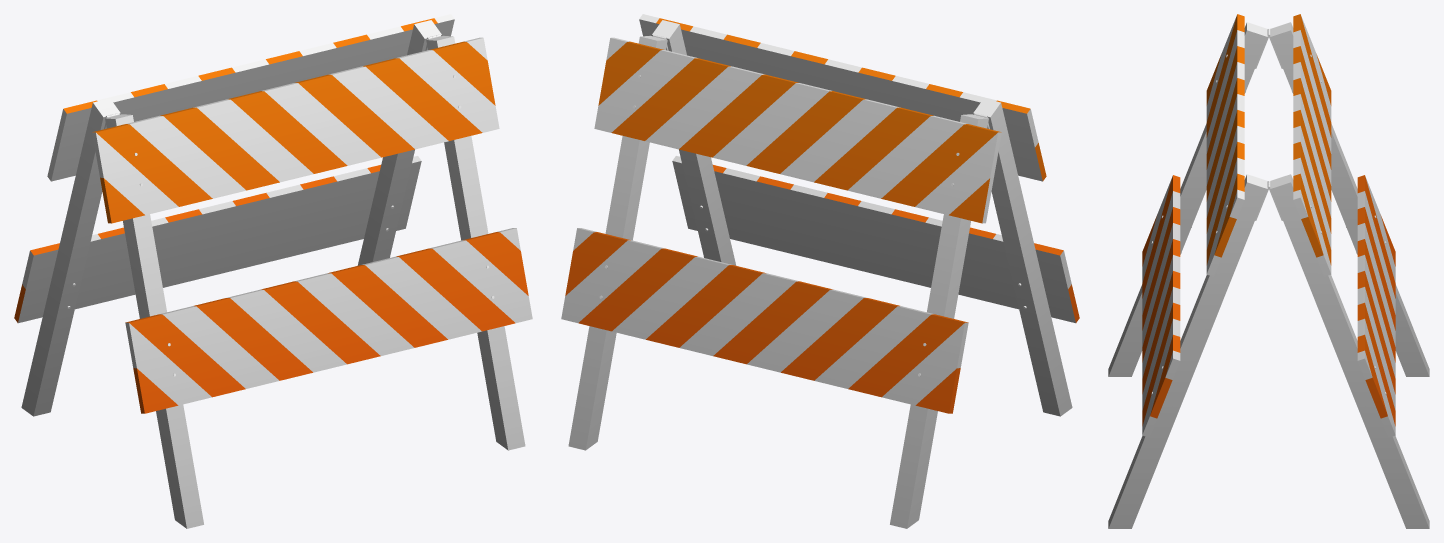
Rendered from type_ii_barricade_01_medium.glb.
3 views of the same model, side by side, from view 1: azimuth 30°, elevation 25°; view 2: azimuth 150°, elevation 25°; view 3: azimuth 270°, elevation 25° (orthographic). The views are drawn at different scales.
Visible parts, largest first — view 1: type_ii_barricade_01_medium; view 2: type_ii_barricade_01_medium; view 3: type_ii_barricade_01_medium.
Part boxes in pixels (left/top/right/bottom): type_ii_barricade_01_medium: left=14, top=14, right=532, bottom=528; type_ii_barricade_01_medium: left=561, top=14, right=1079, bottom=528; type_ii_barricade_01_medium: left=1108, top=14, right=1429, bottom=528.
Bounding box in the file's own units: 1.12 × 0.9895 × 0.8305.
1 material, 1 textured.
